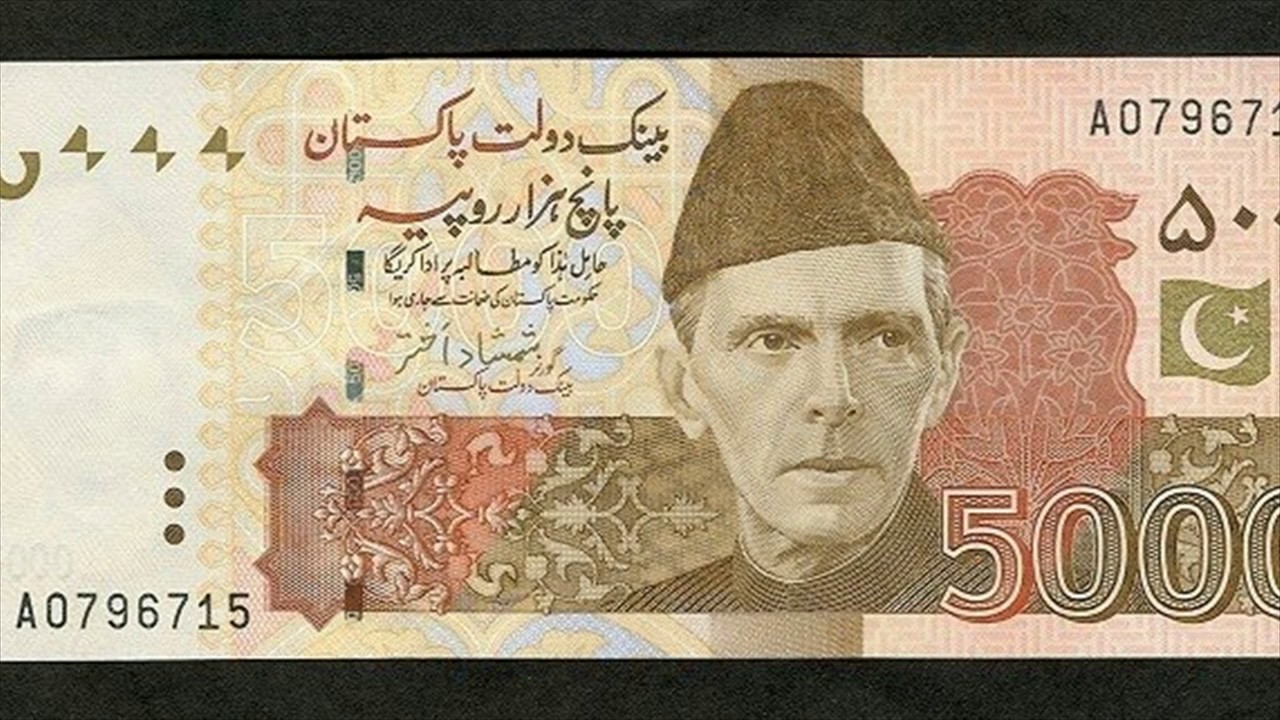5000 rupee: (15, 77, 1269, 660)
